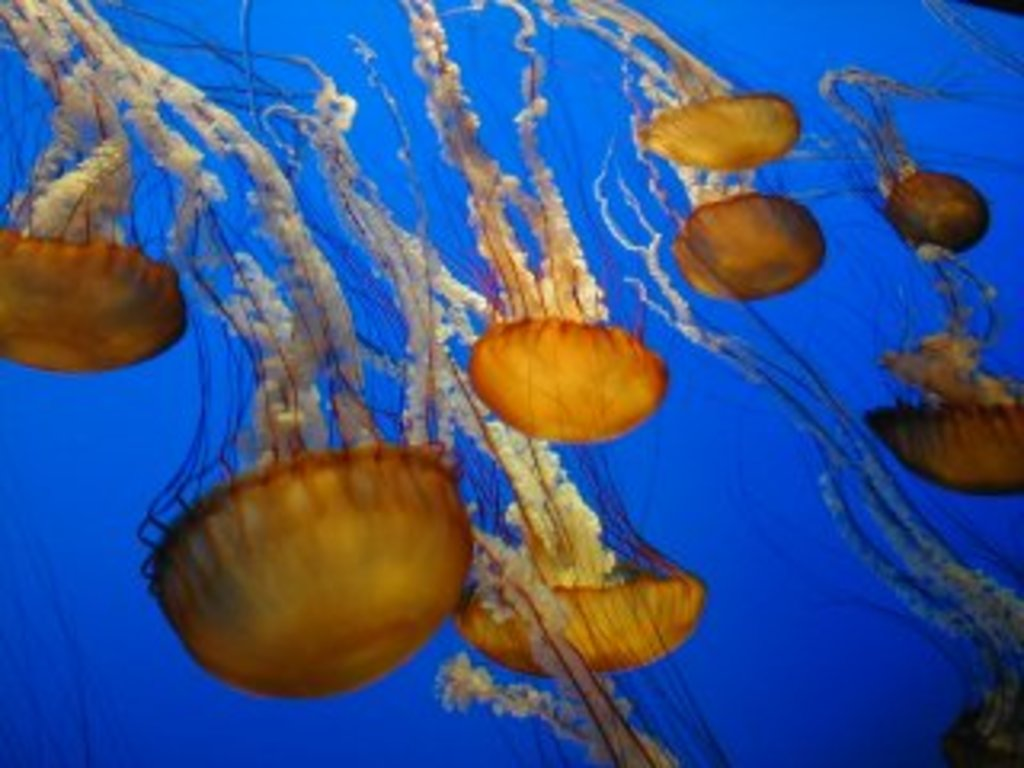Jellyfish: (0, 0, 1020, 764), (560, 0, 800, 176)
